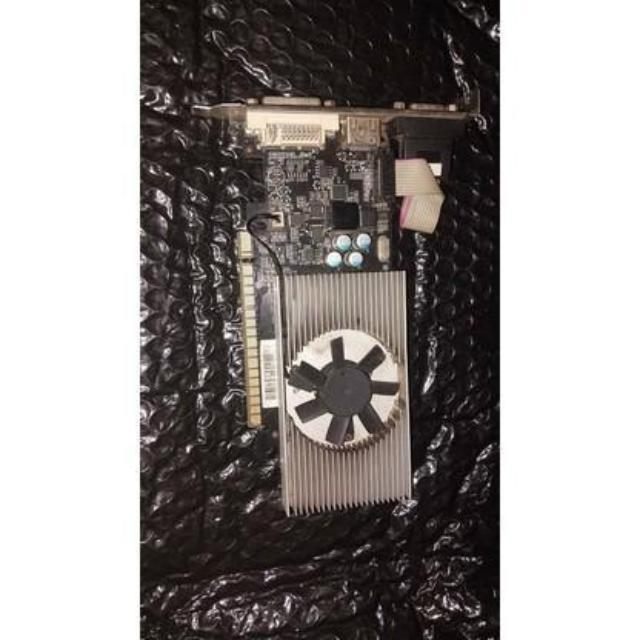GPU: (208, 88, 450, 523)
